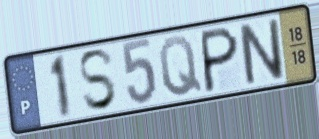1: (49, 51, 76, 123)
5: (118, 34, 159, 109)
N: (236, 16, 287, 88)
P: (201, 24, 241, 95)
Q: (156, 33, 205, 99)
S: (77, 46, 120, 113)
